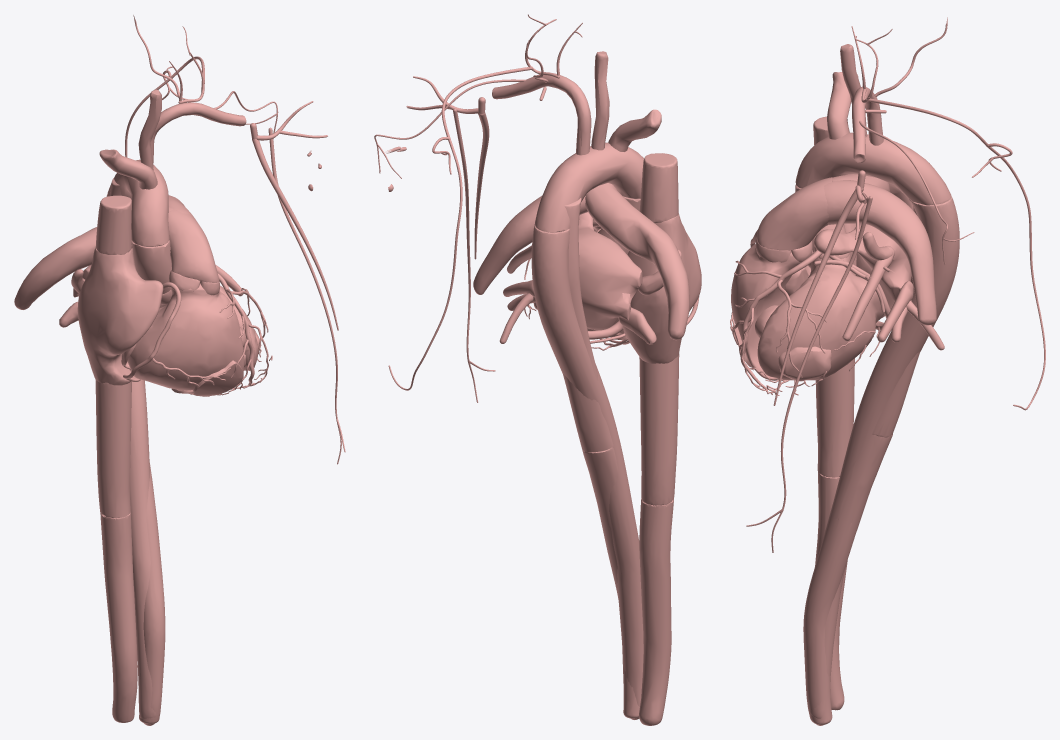
The model's file is cvs.glb.
3 views of the same model, side by side, from view 1: azimuth 30°, elevation 25°; view 2: azimuth 150°, elevation 25°; view 3: azimuth 270°, elevation 25° (orthographic). The views are drawn at different scales.
Parts seen in each view (by area): view 1: inferior-vena-cava, descending-thoracic-aorta, right-ventricle, right-atrium, left-subclavian-artery, aortic-arch, right-pulmonary-artery, pulmonary-trunk, superior-vena-cava, anterior-interventricular-artery, ascending-aorta, papillary-muscles (+6 smaller); view 2: descending-thoracic-aorta, inferior-vena-cava, left-subclavian-artery, right-pulmonary-artery, aortic-arch, left-atrium, right-atrium, superior-vena-cava, pulmonary-veins, left-pulmonary-artery, left-common-carotid-artery, brachiocephalic-trunk; view 3: descending-thoracic-aorta, left-subclavian-artery, left-ventricle, aortic-arch, inferior-vena-cava, left-pulmonary-artery, pulmonary-trunk, right-ventricle, pulmonary-veins, left-atrium, papillary-muscles, anterior-interventricular-artery (+5 smaller).
Part boxes in pixels (bbox=[...]): inferior-vena-cava: bbox=[95, 380, 137, 722]; descending-thoracic-aorta: bbox=[106, 178, 165, 725]; right-ventricle: bbox=[122, 283, 243, 390]; right-atrium: bbox=[77, 247, 163, 385]; left-subclavian-artery: bbox=[125, 15, 345, 464]; aortic-arch: bbox=[107, 159, 169, 246]; right-pulmonary-artery: bbox=[14, 206, 173, 309]; pulmonary-trunk: bbox=[168, 210, 219, 282]; superior-vena-cava: bbox=[95, 195, 131, 254]; anterior-interventricular-artery: bbox=[217, 273, 272, 392]; ascending-aorta: bbox=[131, 240, 171, 293]; papillary-muscles: bbox=[171, 328, 259, 396]; descending-thoracic-aorta: bbox=[531, 198, 643, 719]; inferior-vena-cava: bbox=[639, 353, 679, 725]; left-subclavian-artery: bbox=[374, 14, 591, 402]; right-pulmonary-artery: bbox=[585, 183, 689, 340]; aortic-arch: bbox=[535, 142, 644, 232]; left-atrium: bbox=[578, 212, 642, 330]; right-atrium: bbox=[622, 213, 701, 363]; superior-vena-cava: bbox=[639, 153, 678, 223]; pulmonary-veins: bbox=[499, 245, 681, 344]; left-pulmonary-artery: bbox=[473, 196, 587, 294]; left-common-carotid-artery: bbox=[591, 51, 609, 150]; brachiocephalic-trunk: bbox=[608, 109, 661, 151]; descending-thoracic-aorta: bbox=[803, 196, 959, 725]; left-subclavian-artery: bbox=[746, 17, 1045, 552]; left-ventricle: bbox=[757, 251, 884, 380]; aortic-arch: bbox=[795, 132, 951, 205]; inferior-vena-cava: bbox=[815, 358, 854, 710]; left-pulmonary-artery: bbox=[824, 180, 936, 325]; pulmonary-trunk: bbox=[757, 177, 832, 250]; right-ventricle: bbox=[731, 244, 810, 380]; pulmonary-veins: bbox=[842, 232, 944, 350]; left-atrium: bbox=[814, 223, 911, 309]; papillary-muscles: bbox=[732, 267, 831, 381]; anterior-interventricular-artery: bbox=[732, 250, 826, 395].
Bounding box in the file's own units: 0.8637 × 1.9 × 0.7419.
